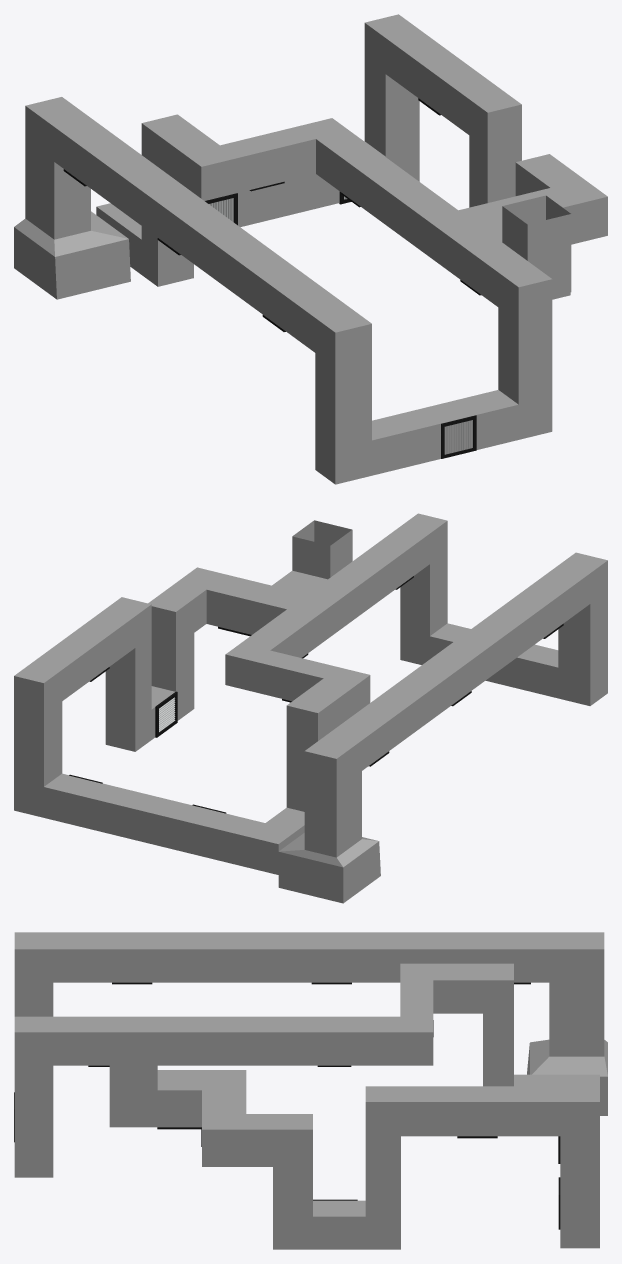
File: FINAL_VENT.fbx
3 views of the same model, one above another, from view 1: azimuth 30°, elevation 25°; view 2: azimuth 150°, elevation 25°; view 3: azimuth 270°, elevation 25° (orthographic). The views are drawn at different scales.
Parts seen in each view (by area): view 1: pCube29; view 2: pCube29; view 3: pCube29.
Boxes of the visible parts, x1,y1,x2,y2 form: pCube29: (14, 14, 607, 484); pCube29: (14, 513, 607, 903); pCube29: (14, 932, 607, 1249).
Bounding box in the file's own units: 479 × 209 × 681.
Materials: 2 (1 with a texture image).
